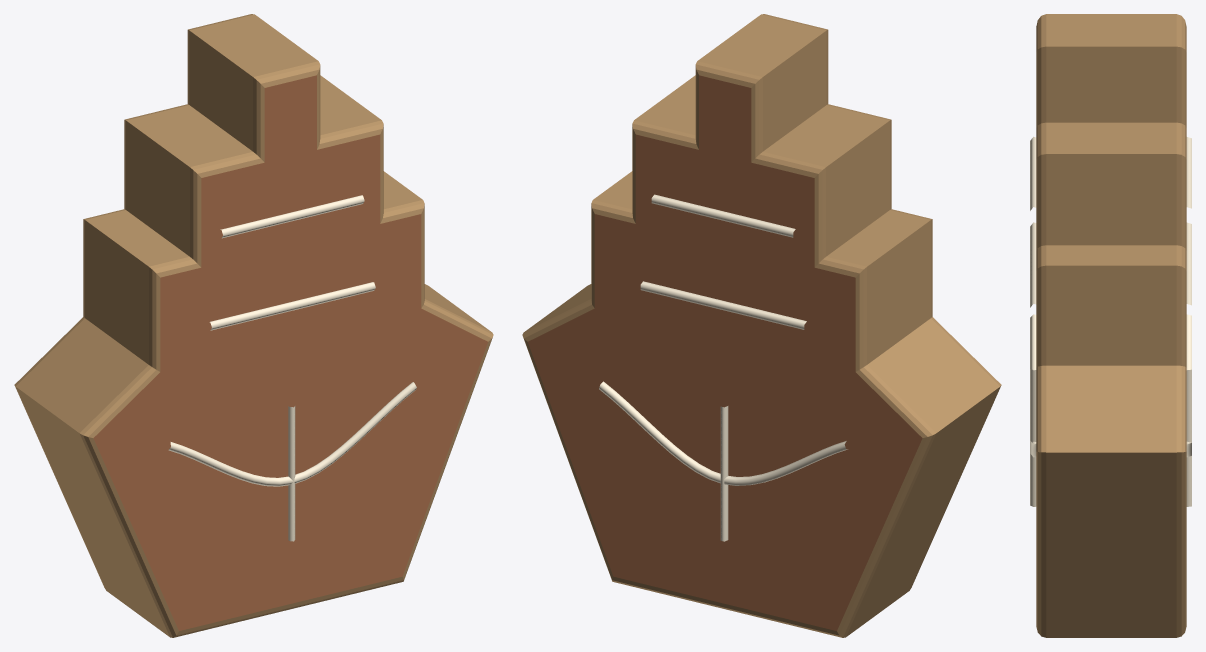
File: meeple-5.glb
3 views of the same model, side by side, from view 1: azimuth 30°, elevation 25°; view 2: azimuth 150°, elevation 25°; view 3: azimuth 270°, elevation 25° (orthographic).
Parts seen in each view (by area): view 1: meeple-5-여객선; view 2: meeple-5-여객선; view 3: meeple-5-여객선.
Boxes of the visible parts, bbox=[...] form: meeple-5-여객선: bbox=[14, 14, 493, 637]; meeple-5-여객선: bbox=[522, 14, 1001, 637]; meeple-5-여객선: bbox=[1030, 14, 1191, 637].
Size of the model in its own units: 0.024 by 0.03 by 0.008.
